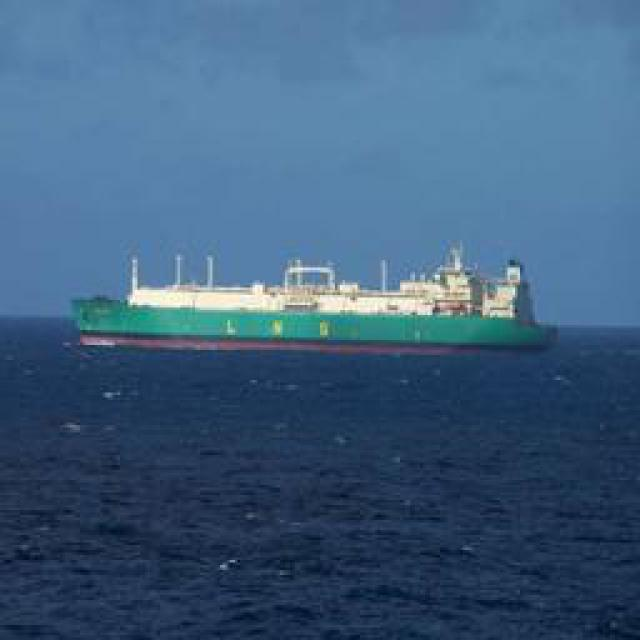Ship: (70, 245, 553, 350)
